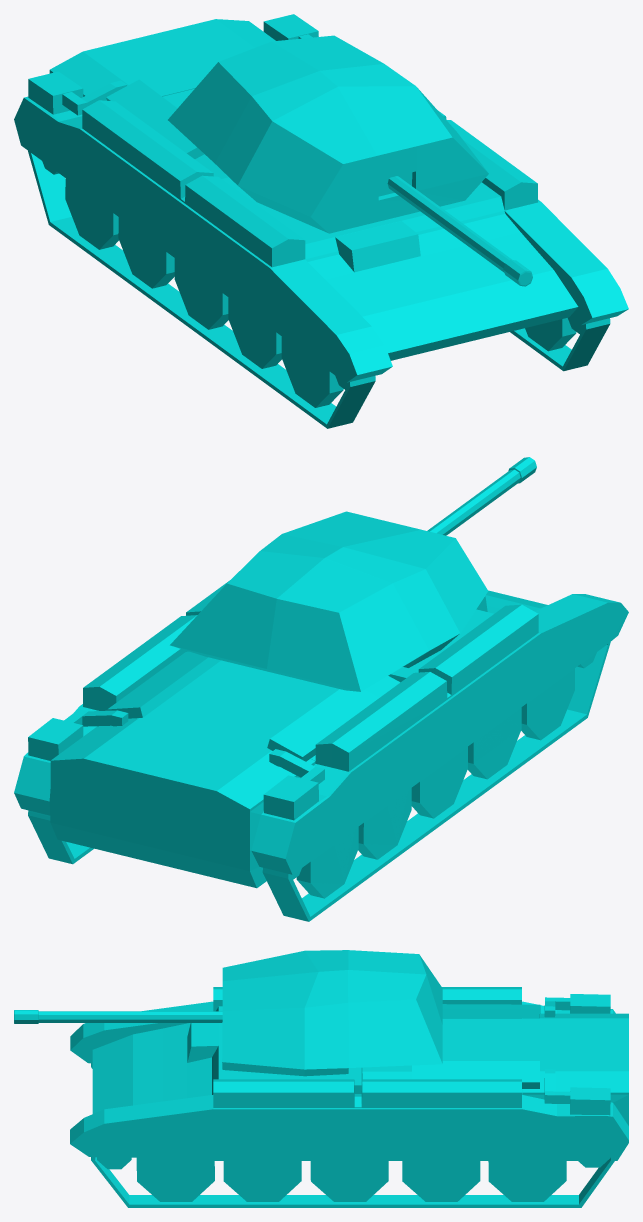
File: Crusader.fbx
3 views of the same model, one above another, from view 1: azimuth 30°, elevation 25°; view 2: azimuth 150°, elevation 25°; view 3: azimuth 270°, elevation 25° (orthographic). The views are drawn at different scales.
Parts seen in each view (by area): view 1: 立方体.010, 立方体, 立方体.001; view 2: 立方体.010, 立方体, 立方体.001; view 3: 立方体.010, 立方体, 立方体.001.
Boxes of the visible parts, box(x1,y1,x2,y2) form: 立方体.010: box(14, 14, 628, 428); 立方体: box(168, 35, 488, 233); 立方体.001: box(387, 176, 532, 286); 立方体.010: box(14, 580, 628, 921); 立方体: box(170, 511, 487, 691); 立方体.001: box(427, 457, 536, 535); 立方体.010: box(70, 987, 628, 1207); 立方体: box(222, 950, 442, 1076); 立方体.001: box(14, 1010, 222, 1023).
Bounding box in the file's own units: 116 × 92.69 × 279.
